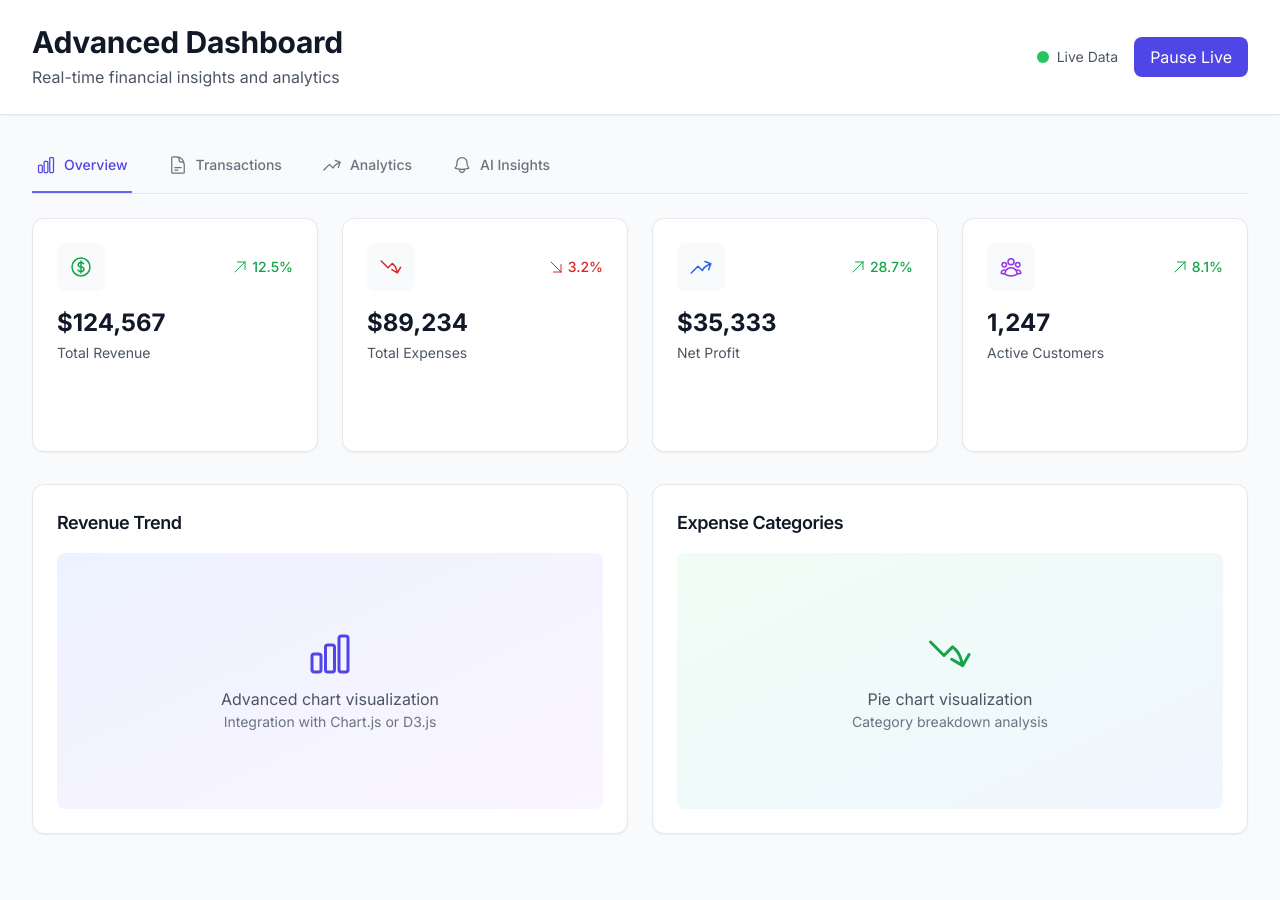
Test: AdvancedDashboard › toggles real-time data
Click the button "Pause Live". click: (1191, 57)
box: [1134,37,1248,77]
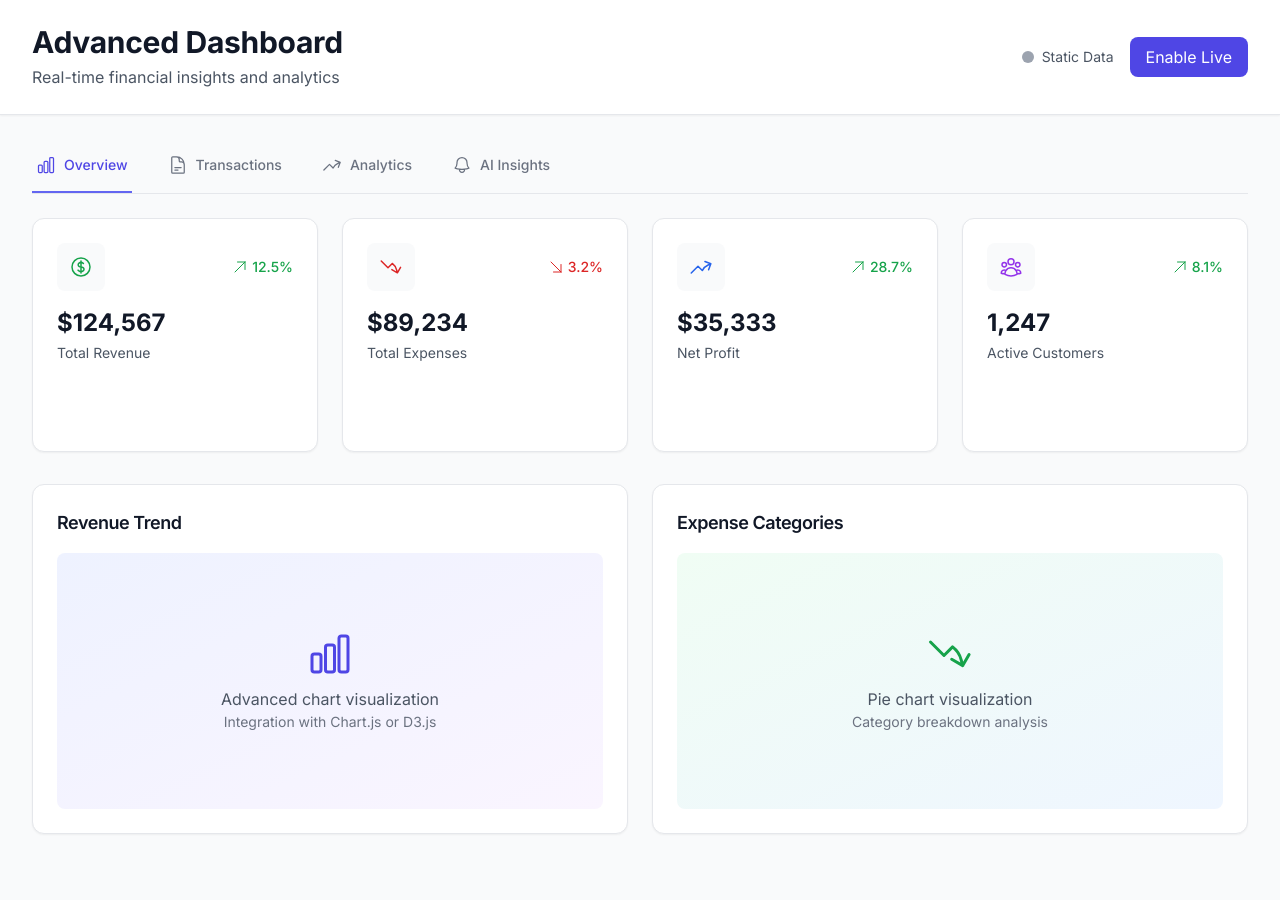
Check: the button "Enable Live" is shown, box [1130,37,1248,77]
